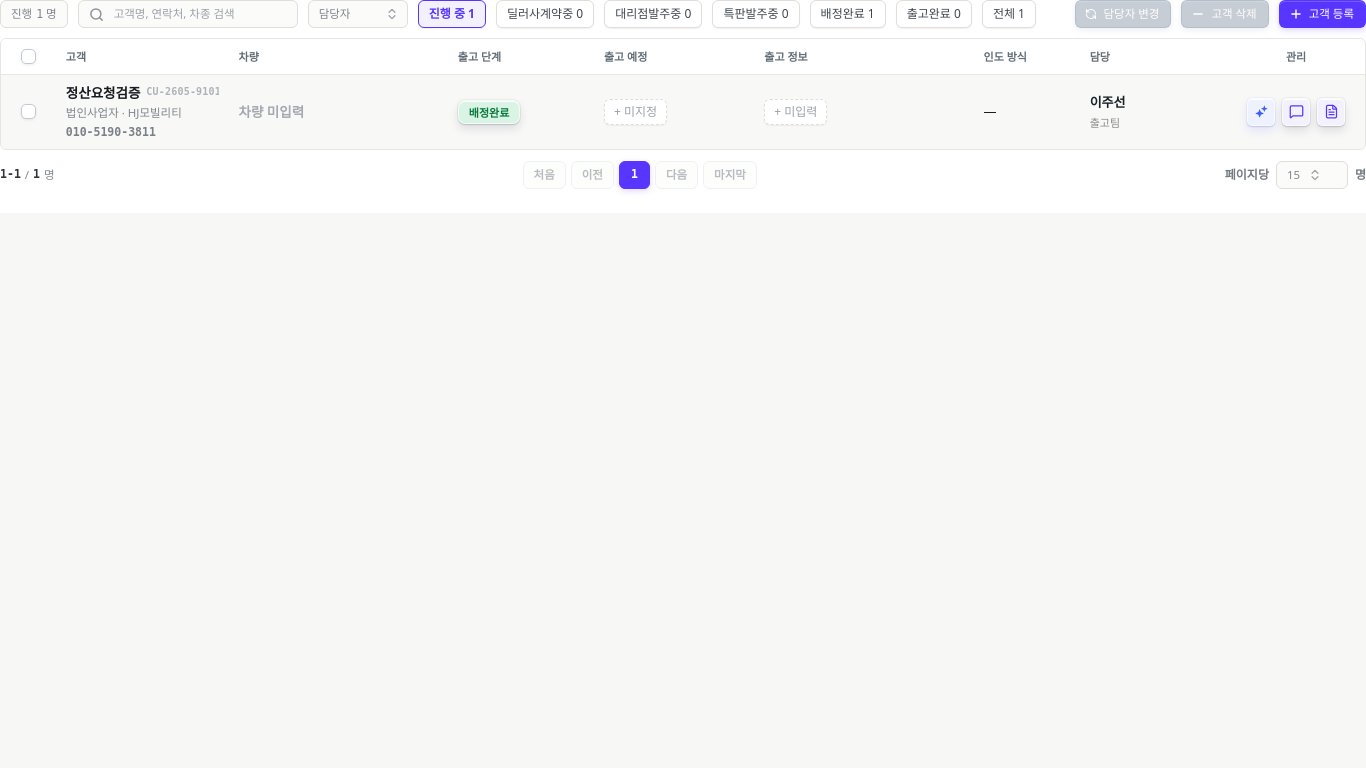
출고 관리(delivery) 콘솔 › 출고 정보 팝오버: 정산 요청 버튼은 항상 있고, 비용 입력은 관리자에게만 열린다
Step 1. Click the button with aria-label "출고 정보 입력:" → [796, 112], box [764,99,827,125]
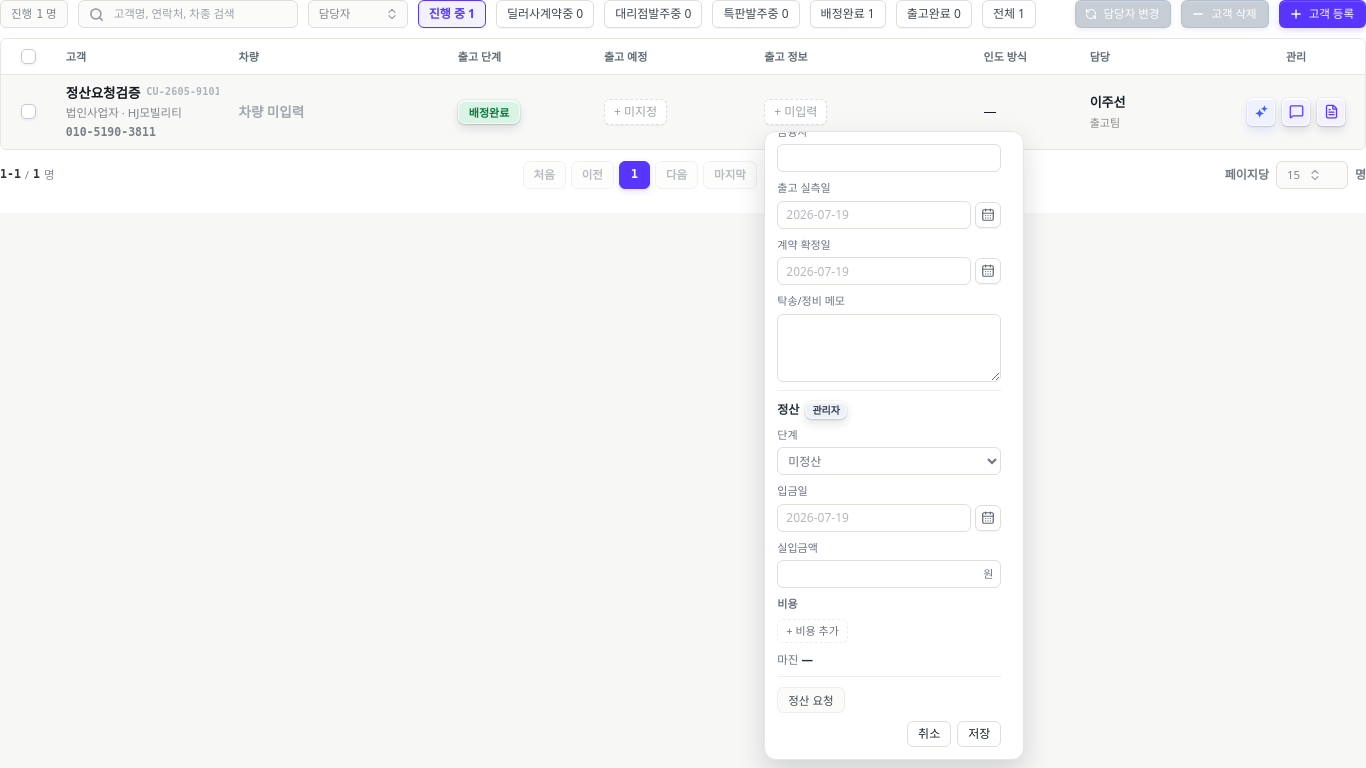
Now the button "정산 요청" is shown, box [777,687,845,713]
Now the button "+ 비용 추가" is shown, box [777,619,848,643]
